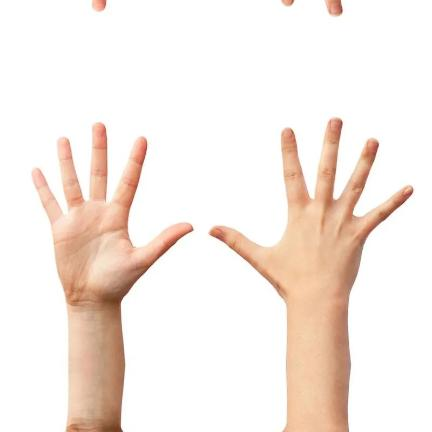Nail: (208, 227, 224, 239), (330, 116, 341, 131), (330, 1, 341, 16), (367, 137, 378, 151), (402, 186, 413, 196), (283, 127, 292, 139), (283, 0, 292, 5)
